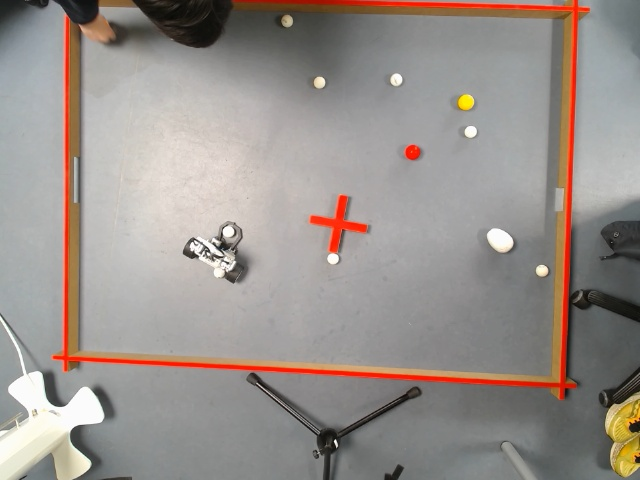big_goal: (60, 150, 82, 204)
cross: (303, 191, 371, 254)
egg: (487, 228, 512, 249)
robot: (180, 218, 248, 285)
small_goal: (548, 183, 575, 212)
wall: (44, 353, 578, 389), (56, 14, 78, 371), (352, 0, 588, 14)
white: (464, 122, 478, 135), (280, 15, 293, 27), (326, 254, 338, 266), (536, 266, 548, 276), (313, 75, 322, 87), (390, 74, 400, 84), (213, 269, 224, 276), (224, 227, 232, 234)
